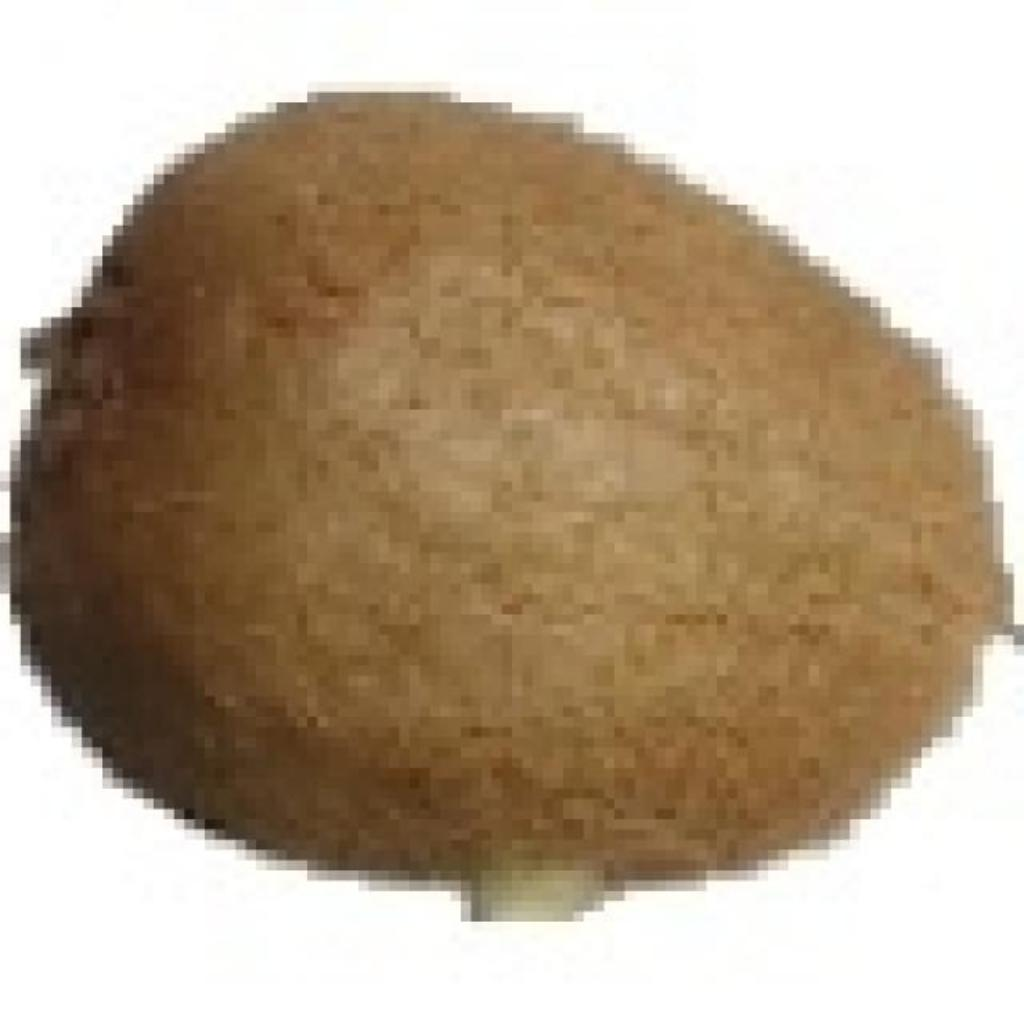kiwi: (31, 82, 1014, 891)
